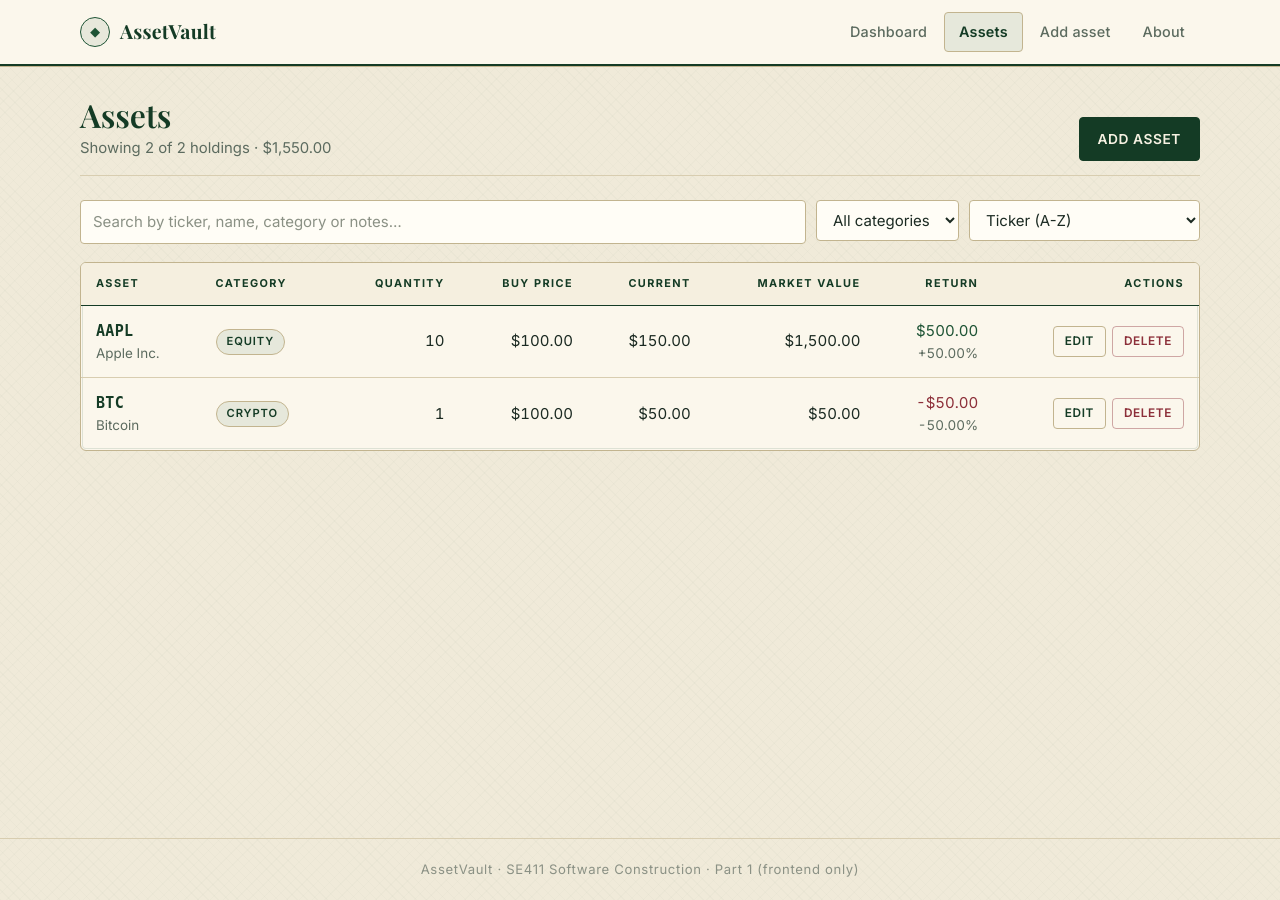
Test: displaying and searching › filters by category
Select "Crypto" in the 1st dropdown named "Filter by category" at (888, 221), box [816, 200, 959, 241]
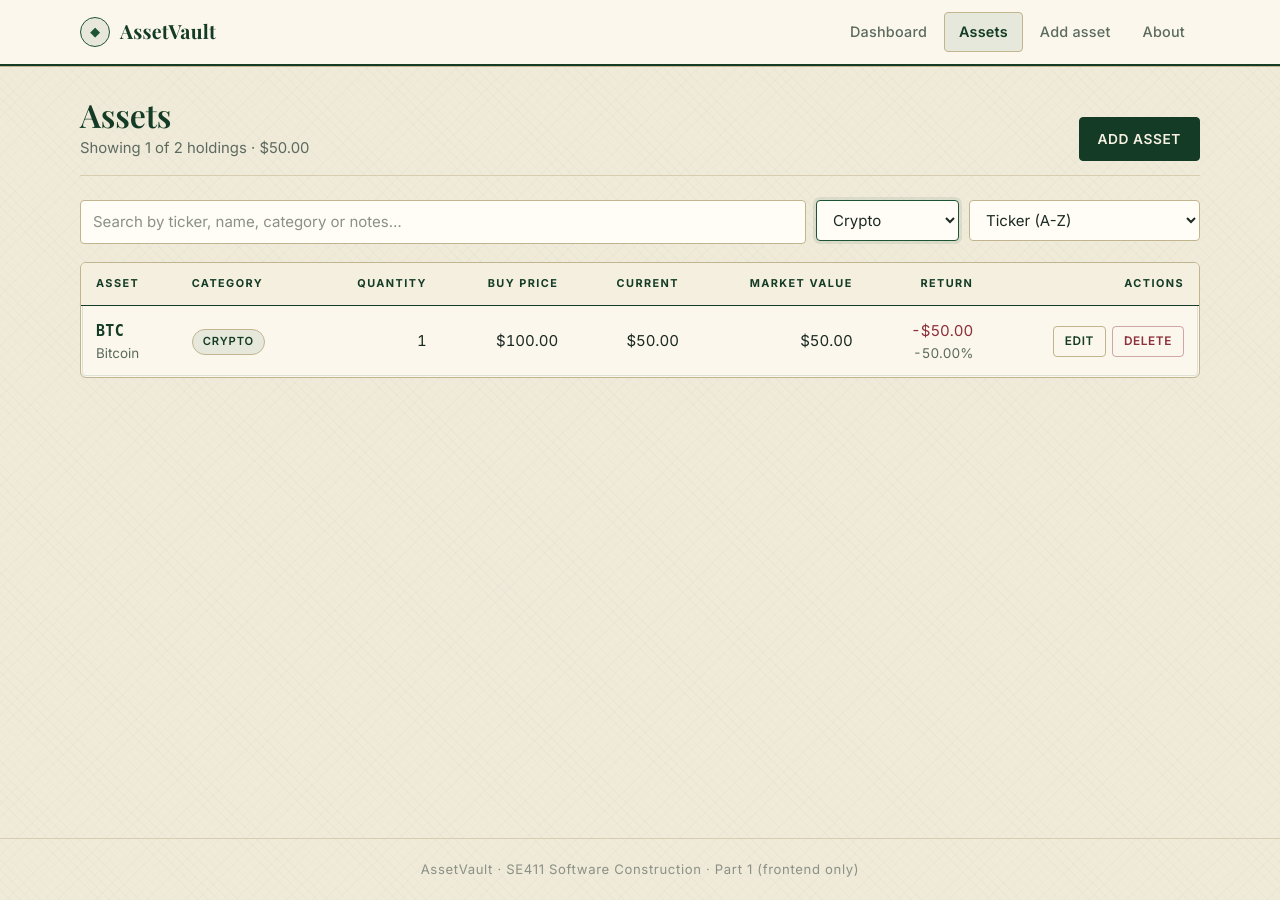
Expected: the text "BTC" is shown, [96, 322, 124, 340]
Expected: the text "AAPL" is gone
